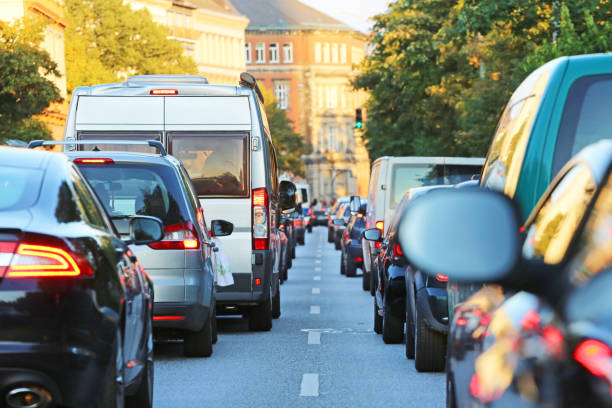car: (4, 140, 157, 408), (93, 147, 224, 349), (200, 89, 273, 315), (359, 155, 442, 237), (338, 206, 366, 276)
